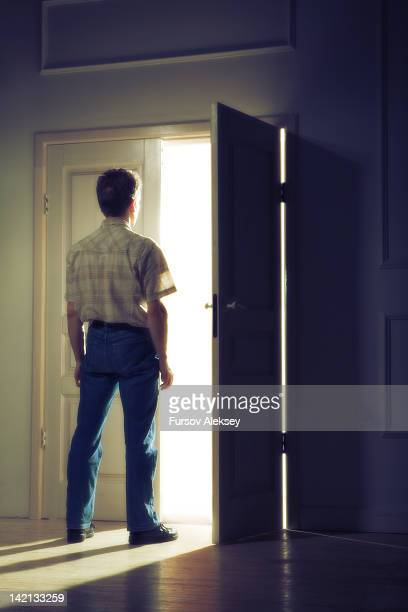person: (66, 168, 178, 541)
